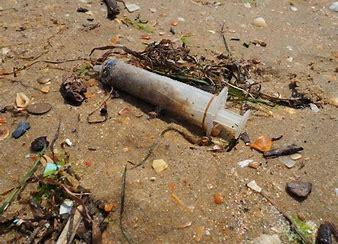Syringe: (86, 52, 257, 144)
